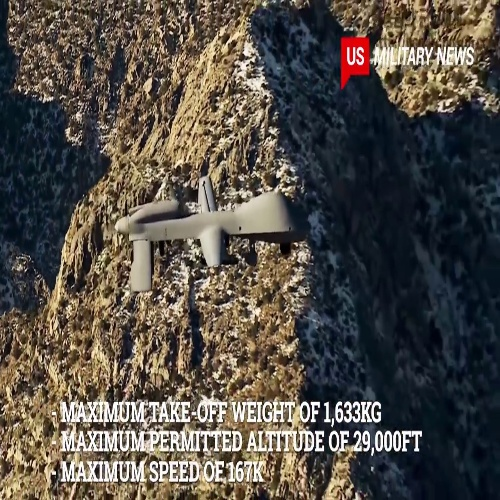uav: (111, 178, 313, 295)
